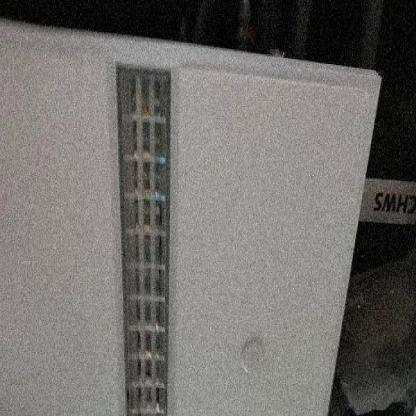light_off: (106, 44, 182, 415)
